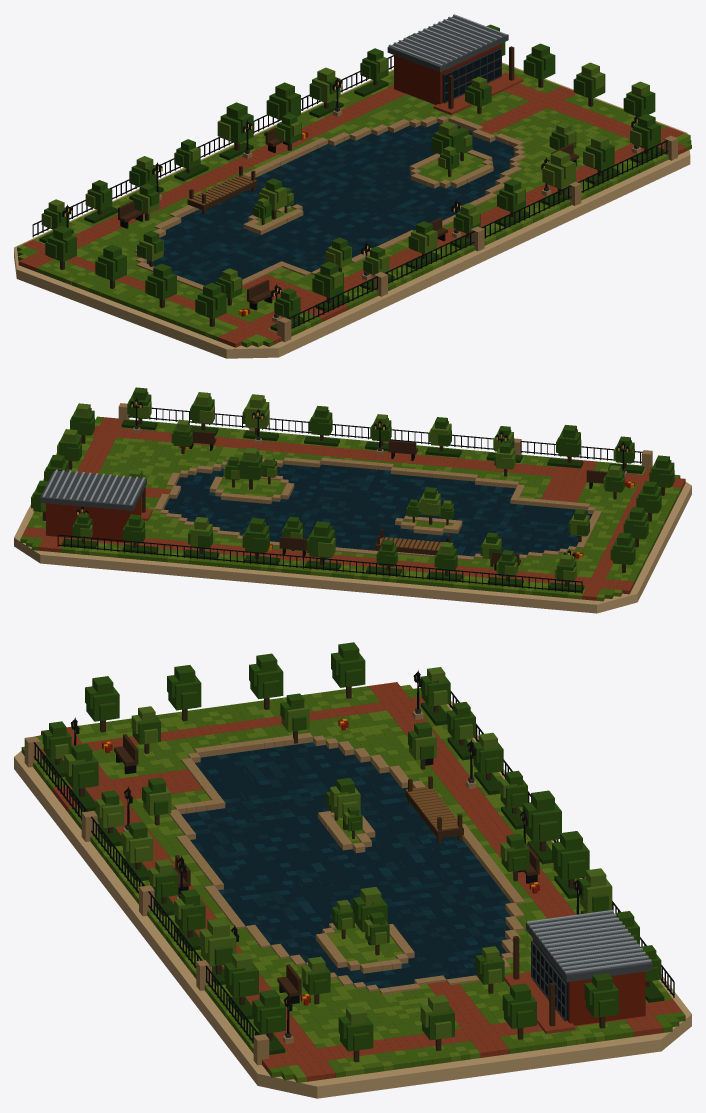
The model's file is SM_Mapa_043.fbx.
The picture shows the model from 3 angles, top to bottom: view 1: azimuth 30°, elevation 25°; view 2: azimuth 150°, elevation 25°; view 3: azimuth 270°, elevation 25°; orthographic projection. The views are drawn at different scales.
Parts seen in each view (by area): view 1: SM_Mapa_043; view 2: SM_Mapa_043; view 3: SM_Mapa_043.
Boxes of the visible parts, left/top/right/bottom form: SM_Mapa_043: left=14, top=14, right=691, bottom=358; SM_Mapa_043: left=14, top=387, right=691, bottom=613; SM_Mapa_043: left=14, top=642, right=691, bottom=1098.
Size of the model in its own units: 80 by 56.98 by 7.09.
